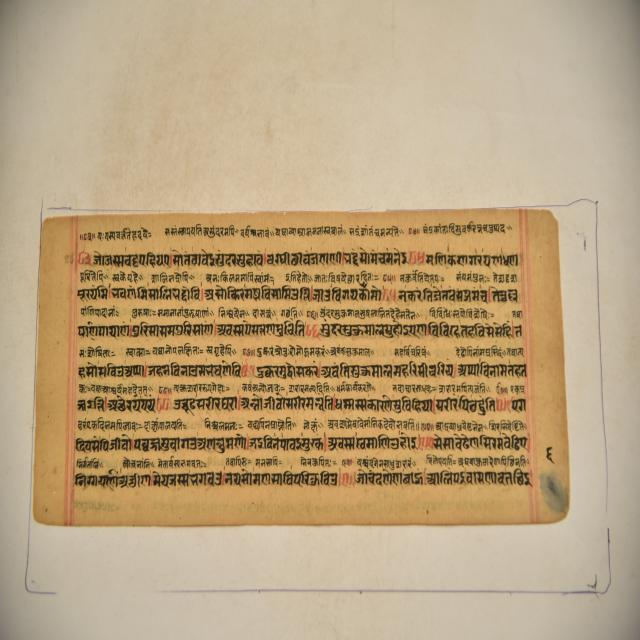text_paragraph: (32, 208, 571, 521)
